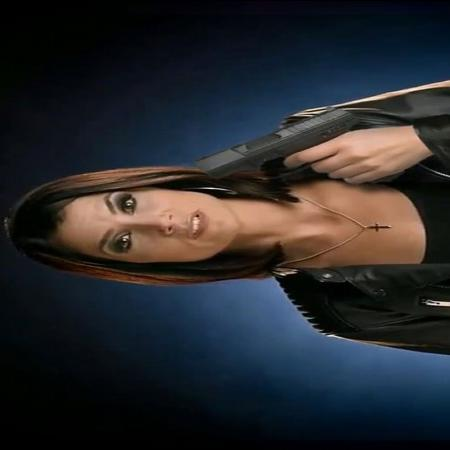Pistol: (198, 98, 404, 187)
